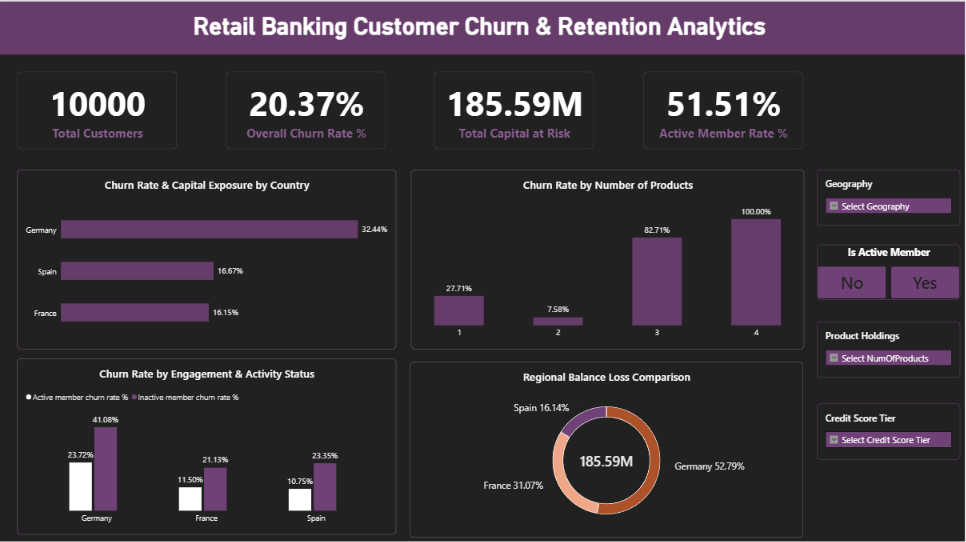

The dashboard page shown, as its layout file describes it:
{"tool":"powerbi","page":{"name":"Page 1","canvas":[1930,1080],"ordinal":0},"visuals":[{"type":"shape","box":[0,0,1930,106],"z":0},{"type":"textbox","box":[354,20,1210,70],"z":1000},{"type":"cardVisual","fields":{"Data":["measures (2).Total Customers"]},"box":[34.9,139.5,320.9,155.2],"z":2000,"group":"g1"},{"type":"cardVisual","fields":{"Data":["measures (2).Overall Churn Rate"]},"box":[452.3,139.5,320.9,155.2],"z":3000,"group":"g1"},{"type":"cardVisual","fields":{"Data":["measures (2).Total Capital at Risk"]},"box":[869.8,139.5,320.9,155.2],"z":4000,"group":"g1"},{"type":"cardVisual","fields":{"Data":["measures (2).Active Member Rate %"]},"box":[1287.2,139.5,320.9,155.2],"z":5000,"group":"g1"},{"type":"clusteredBarChart","title":"Churn Rate & Capital Exposure by Country","fields":{"Category":["bank_churn_cleaned.Geography"],"Y":["measures (2).Overall Churn Rate %"]},"box":[34.9,336.6,758.7,359.3],"z":6000},{"type":"clusteredColumnChart","title":"Churn Rate by Number of Products","fields":{"Category":["bank_churn_cleaned.NumOfProducts"],"Y":["measures (2).Overall Churn Rate %"]},"box":[821.5,336.6,786.6,359.3],"z":6001},{"type":"group","id":"g1","title":"Group 1","box":[34.9,139.5,1573.3,155.2],"z":6002},{"type":"clusteredColumnChart","title":"Churn Rate by Engagement & Activity Status","fields":{"Category":["bank_churn_cleaned.Geography"],"Y":["measures (2).Active member churn rate %","measures (2).Inactive member churn rate %"]},"box":[34,714,758,352],"z":6003},{"type":"donutChart","title":"Regional Balance Loss Comparison","fields":{"Category":["bank_churn_cleaned.Geography"],"Y":["measures (2).Total Lost Balance"]},"box":[820,720,786,352],"z":6004},{"type":"listSlicer","fields":{"Values":["bank_churn_cleaned.Geography"]},"box":[1634,336,286,112],"z":6005},{"type":"advancedSlicerVisual","title":"Is Active Member","fields":{"Values":["bank_churn_cleaned.Is Active Label"]},"box":[1634,486,286,110],"z":6006},{"type":"listSlicer","title":"Product Holdings","fields":{"Values":["bank_churn_cleaned.NumOfProducts"]},"box":[1634,640,286,112],"z":6007},{"type":"listSlicer","fields":{"Values":["bank_churn_cleaned.Credit Score Tier"]},"box":[1634,804,286,112],"z":6008}]}

Visuals, with their boxes in screenshot pixels (x1, y1, x2, y2), scaled from the page's 1930x1080 canvas onto the 966x542 screenshot:
shape: [left=0, top=0, right=965, bottom=53]
textbox: [left=177, top=10, right=783, bottom=45]
cardVisual - measures (2).Total Customers: [left=17, top=70, right=178, bottom=148]
cardVisual - measures (2).Overall Churn Rate: [left=226, top=70, right=387, bottom=148]
cardVisual - measures (2).Total Capital at Risk: [left=435, top=70, right=596, bottom=148]
cardVisual - measures (2).Active Member Rate %: [left=644, top=70, right=805, bottom=148]
"Churn Rate & Capital Exposure by Country" clusteredBarChart: [left=17, top=169, right=397, bottom=349]
"Churn Rate by Number of Products" clusteredColumnChart: [left=411, top=169, right=805, bottom=349]
"Group 1" group: [left=17, top=70, right=805, bottom=148]
"Churn Rate by Engagement & Activity Status" clusteredColumnChart: [left=17, top=358, right=396, bottom=535]
"Regional Balance Loss Comparison" donutChart: [left=410, top=361, right=804, bottom=538]
listSlicer - bank_churn_cleaned.Geography: [left=818, top=169, right=961, bottom=225]
"Is Active Member" advancedSlicerVisual: [left=818, top=244, right=961, bottom=299]
"Product Holdings" listSlicer: [left=818, top=321, right=961, bottom=377]
listSlicer - bank_churn_cleaned.Credit Score Tier: [left=818, top=403, right=961, bottom=460]
